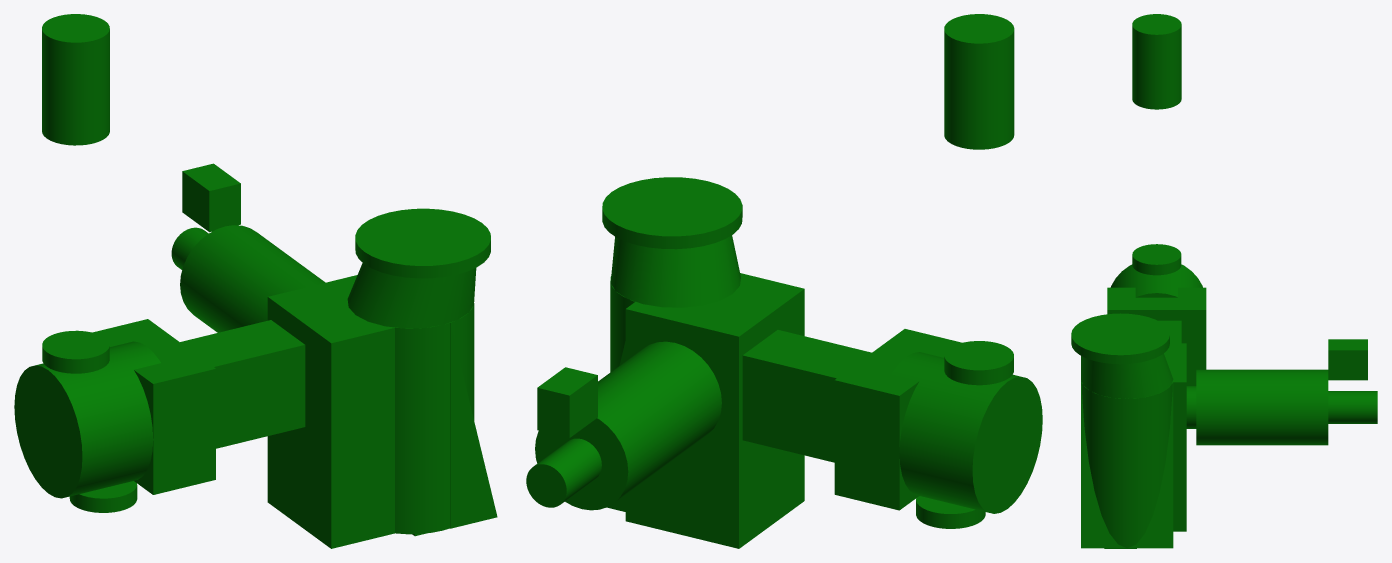
Rendered from Image-1711348064027-2281443744160_42-PF50B.fbx.
The picture shows the model from 3 angles, left to right: view 1: azimuth 30°, elevation 25°; view 2: azimuth 150°, elevation 25°; view 3: azimuth 270°, elevation 25°; orthographic projection. The views are drawn at different scales.
Visible parts, largest first — view 1: BOX 1 of SUBEQUIPMENT /42-PF50B/PRIM, CYLINDER 6 of SUBEQUIPMENT /42-PF50B/PRIM, CYLINDER 1 of SUBEQUIPMENT /42-PF50B/PRIM, BOX 4 of SUBEQUIPMENT /42-PF50B/PRIM, BOX 3 of SUBEQUIPMENT /42-PF50B/PRIM, CYLINDER 4 of SUBEQUIPMENT /42-PF50B/PRIM, CYLINDER 1 of SUBEQUIPMENT /42-CX50B, CYLINDER 2 of SUBEQUIPMENT /42-PF50B/PRIM, SNOUT 1 of SUBEQUIPMENT /42-PF50B/PRIM, PYRAMID 1 of SUBEQUIPMENT /42-PF50B/PRIM, BOX 2 of SUBEQUIPMENT /42-PF50B/PRIM, /42-PF50B/N1 (+2 smaller); view 2: BOX 1 of SUBEQUIPMENT /42-PF50B/PRIM, CYLINDER 6 of SUBEQUIPMENT /42-PF50B/PRIM, CYLINDER 4 of SUBEQUIPMENT /42-PF50B/PRIM, BOX 4 of SUBEQUIPMENT /42-PF50B/PRIM, BOX 3 of SUBEQUIPMENT /42-PF50B/PRIM, CYLINDER 1 of SUBEQUIPMENT /42-CX50B, CYLINDER 2 of SUBEQUIPMENT /42-PF50B/PRIM, SNOUT 1 of SUBEQUIPMENT /42-PF50B/PRIM, BOX 2 of SUBEQUIPMENT /42-PF50B/PRIM, CYLINDER 5 of SUBEQUIPMENT /42-PF50B/PRIM, /42-PF50B/N1, /42-PF50B/N2 (+1 smaller); view 3: CYLINDER 1 of SUBEQUIPMENT /42-PF50B/PRIM, CYLINDER 4 of SUBEQUIPMENT /42-PF50B/PRIM, CYLINDER 1 of SUBEQUIPMENT /42-CX50B, PYRAMID 1 of SUBEQUIPMENT /42-PF50B/PRIM, CYLINDER 2 of SUBEQUIPMENT /42-PF50B/PRIM, BOX 4 of SUBEQUIPMENT /42-PF50B/PRIM, SNOUT 1 of SUBEQUIPMENT /42-PF50B/PRIM, BOX 1 of SUBEQUIPMENT /42-PF50B/PRIM, CYLINDER 6 of SUBEQUIPMENT /42-PF50B/PRIM, BOX 2 of SUBEQUIPMENT /42-PF50B/PRIM, CYLINDER 5 of SUBEQUIPMENT /42-PF50B/PRIM, /42-PF50B/N1 (+1 smaller).
Part boxes in pixels (x1,y1,x2,y2): BOX 1 of SUBEQUIPMENT /42-PF50B/PRIM: (267, 275, 394, 548); CYLINDER 6 of SUBEQUIPMENT /42-PF50B/PRIM: (14, 341, 160, 498); CYLINDER 1 of SUBEQUIPMENT /42-PF50B/PRIM: (347, 300, 474, 534); BOX 4 of SUBEQUIPMENT /42-PF50B/PRIM: (92, 319, 215, 494); BOX 3 of SUBEQUIPMENT /42-PF50B/PRIM: (180, 320, 305, 448); CYLINDER 4 of SUBEQUIPMENT /42-PF50B/PRIM: (180, 225, 325, 332); CYLINDER 1 of SUBEQUIPMENT /42-CX50B: (42, 14, 109, 145); CYLINDER 2 of SUBEQUIPMENT /42-PF50B/PRIM: (355, 208, 490, 278); SNOUT 1 of SUBEQUIPMENT /42-PF50B/PRIM: (347, 263, 476, 328); PYRAMID 1 of SUBEQUIPMENT /42-PF50B/PRIM: (450, 323, 497, 528); BOX 2 of SUBEQUIPMENT /42-PF50B/PRIM: (182, 163, 240, 232); /42-PF50B/N1: (42, 330, 109, 373); BOX 1 of SUBEQUIPMENT /42-PF50B/PRIM: (625, 273, 804, 548); CYLINDER 6 of SUBEQUIPMENT /42-PF50B/PRIM: (891, 352, 1042, 513); CYLINDER 4 of SUBEQUIPMENT /42-PF50B/PRIM: (535, 341, 721, 510); BOX 4 of SUBEQUIPMENT /42-PF50B/PRIM: (834, 329, 961, 510); BOX 3 of SUBEQUIPMENT /42-PF50B/PRIM: (742, 330, 871, 462); CYLINDER 1 of SUBEQUIPMENT /42-CX50B: (944, 14, 1014, 149); CYLINDER 2 of SUBEQUIPMENT /42-PF50B/PRIM: (602, 177, 742, 249); SNOUT 1 of SUBEQUIPMENT /42-PF50B/PRIM: (610, 235, 740, 307); BOX 2 of SUBEQUIPMENT /42-PF50B/PRIM: (537, 367, 597, 437); CYLINDER 5 of SUBEQUIPMENT /42-PF50B/PRIM: (526, 438, 601, 507); /42-PF50B/N1: (944, 341, 1013, 385); /42-PF50B/N2: (916, 496, 985, 528); CYLINDER 1 of SUBEQUIPMENT /42-PF50B/PRIM: (1081, 375, 1172, 548); CYLINDER 4 of SUBEQUIPMENT /42-PF50B/PRIM: (1196, 369, 1328, 445); CYLINDER 1 of SUBEQUIPMENT /42-CX50B: (1132, 14, 1181, 109); PYRAMID 1 of SUBEQUIPMENT /42-PF50B/PRIM: (1081, 382, 1173, 548); CYLINDER 2 of SUBEQUIPMENT /42-PF50B/PRIM: (1071, 313, 1169, 364); BOX 4 of SUBEQUIPMENT /42-PF50B/PRIM: (1107, 287, 1206, 385); SNOUT 1 of SUBEQUIPMENT /42-PF50B/PRIM: (1081, 353, 1173, 398); BOX 1 of SUBEQUIPMENT /42-PF50B/PRIM: (1164, 343, 1186, 531); CYLINDER 6 of SUBEQUIPMENT /42-PF50B/PRIM: (1110, 264, 1202, 297); BOX 2 of SUBEQUIPMENT /42-PF50B/PRIM: (1328, 339, 1367, 380); CYLINDER 5 of SUBEQUIPMENT /42-PF50B/PRIM: (1328, 391, 1377, 423); /42-PF50B/N1: (1132, 244, 1181, 275).
Bounding box in the file's own units: 1.04 × 0.93 × 1.35.
